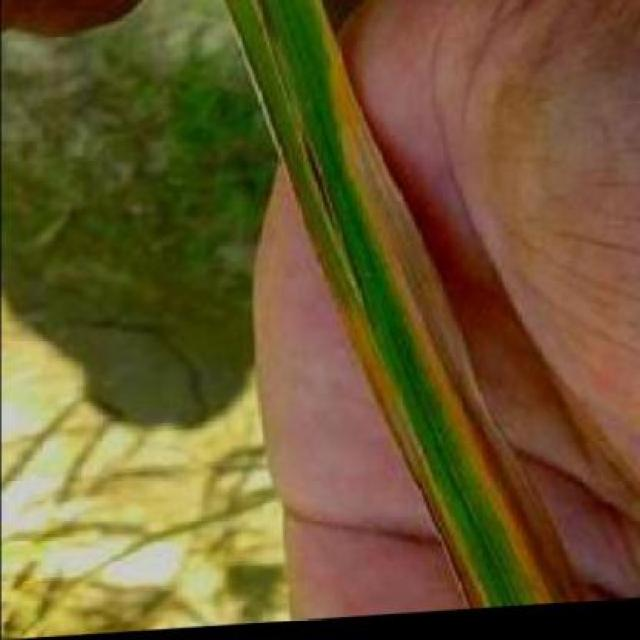Brown_Spot: (206, 0, 548, 565), (210, 547, 572, 625)
